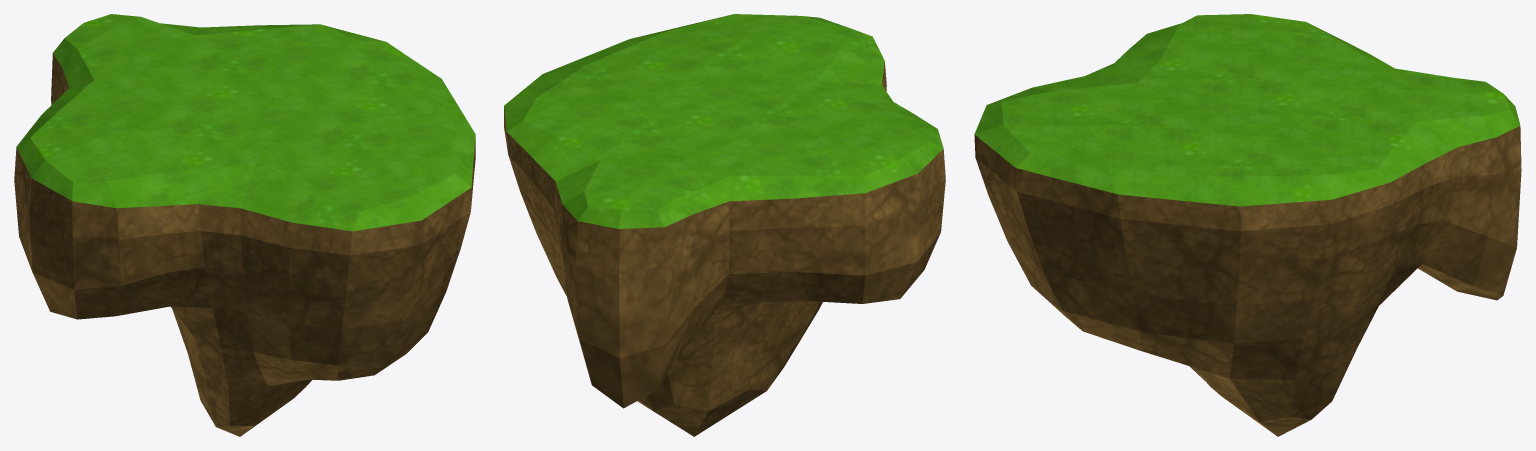
File: islandLv1.fbx
3 renders of one model, left to right at view 1: azimuth 30°, elevation 25°; view 2: azimuth 150°, elevation 25°; view 3: azimuth 270°, elevation 25°, orthographic. The views are drawn at different scales.
Parts seen in each view (by area): view 1: Cube; view 2: Cube; view 3: Cube.
Part boxes in pixels (left/top/right/bottom): Cube: left=14, top=14, right=475, bottom=436; Cube: left=504, top=14, right=945, bottom=436; Cube: left=974, top=14, right=1521, bottom=436.
Bounding box in the file's own units: 2043 × 1649 × 2458.
